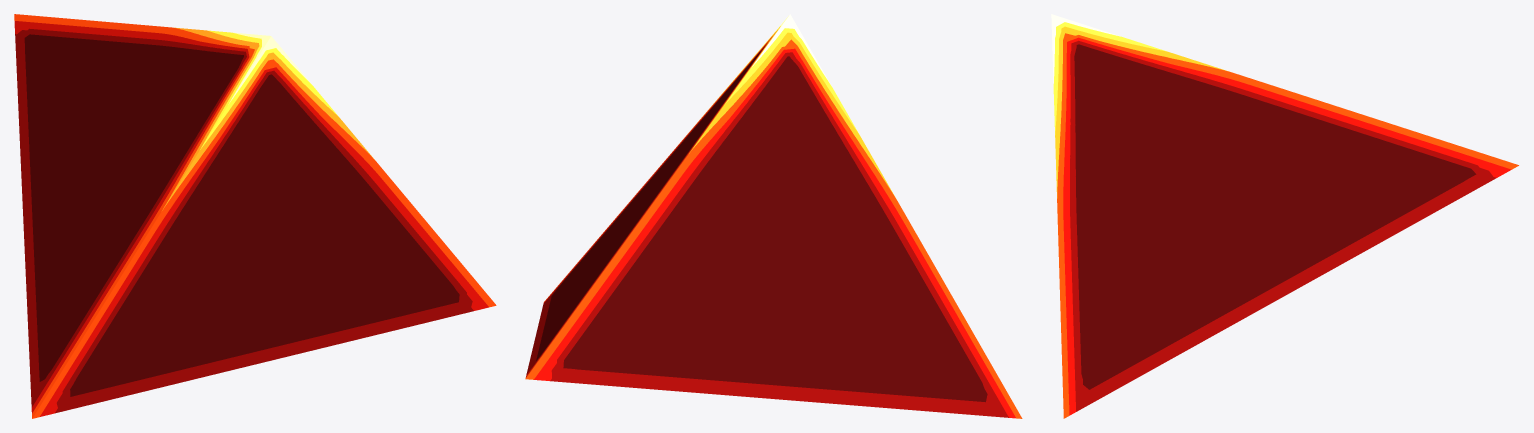
Rendered from molten_crystal.glb.
The picture shows the model from 3 angles, left to right: view 1: azimuth 30°, elevation 25°; view 2: azimuth 150°, elevation 25°; view 3: azimuth 270°, elevation 25°; orthographic projection. The views are drawn at different scales.
Parts seen in each view (by area): view 1: molten_crystal; view 2: molten_crystal; view 3: molten_crystal.
Boxes of the visible parts, bbox=[...] form: molten_crystal: bbox=[14, 14, 496, 418]; molten_crystal: bbox=[525, 14, 1022, 418]; molten_crystal: bbox=[1051, 14, 1518, 418].
Bounding box in the file's own units: 20.8 × 14.17 × 19.93.
